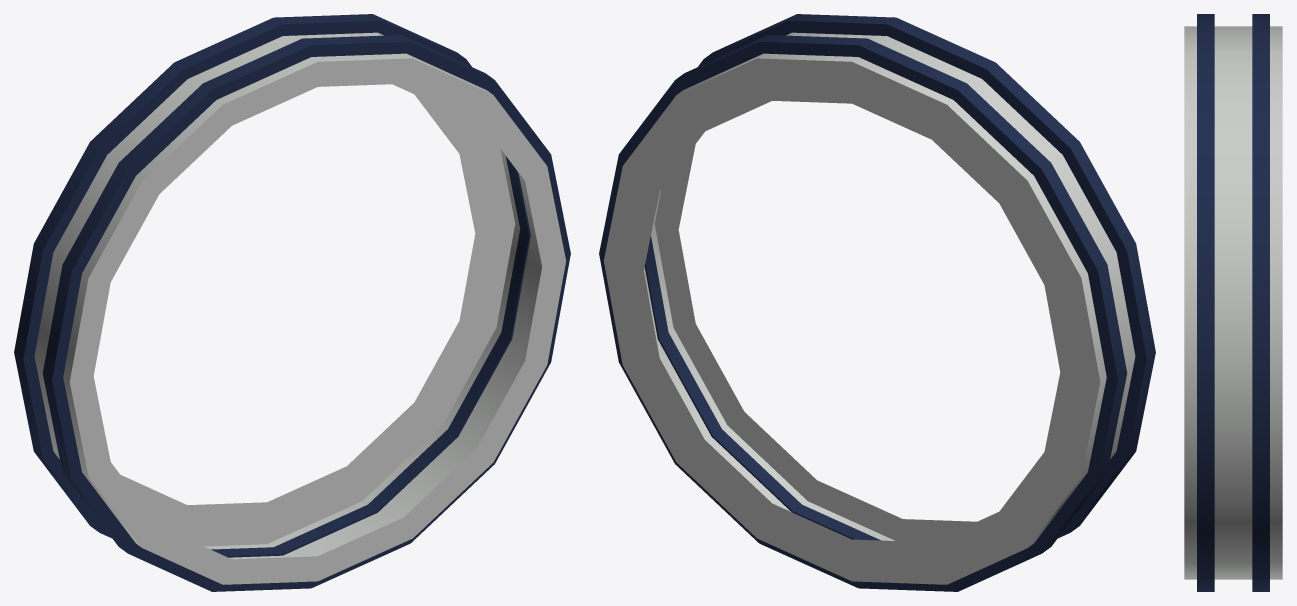
File: srw_formation_fore.obj
3 views of the same model, side by side, from view 1: azimuth 30°, elevation 25°; view 2: azimuth 150°, elevation 25°; view 3: azimuth 270°, elevation 25° (orthographic). The views are drawn at different scales.
Visible parts, largest first — view 1: srw_formation_fore; view 2: srw_formation_fore; view 3: srw_formation_fore.
Boxes of the visible parts, bbox=[...] form: srw_formation_fore: bbox=[14, 14, 570, 591]; srw_formation_fore: bbox=[599, 14, 1155, 591]; srw_formation_fore: bbox=[1184, 14, 1282, 591].
Bounding box in the file's own units: 3.24 × 3.24 × 0.55.
